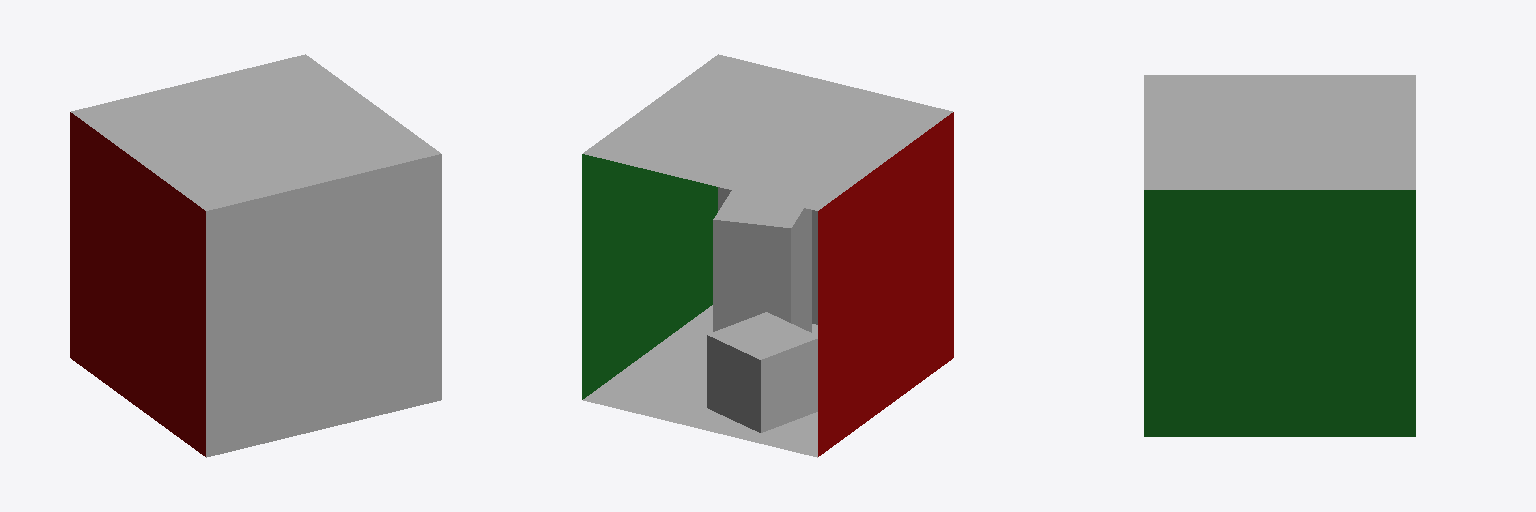
Rendered from cornell-box.obj.
3 renders of one model, left to right at view 1: azimuth 30°, elevation 25°; view 2: azimuth 150°, elevation 25°; view 3: azimuth 270°, elevation 25°, orthographic.
Parts seen in each view (by area): view 1: Back_Wall, Right_Wall, Ceiling; view 2: Right_Wall, Ceiling, Left_Wall, Tall_Block, Cube, Floor, Back_Wall; view 3: Left_Wall, Ceiling.
Part boxes in pixels (x1,y1,x2,y2): Back_Wall: (206, 154, 441, 457); Right_Wall: (70, 112, 205, 456); Ceiling: (71, 54, 440, 210); Right_Wall: (818, 112, 953, 456); Ceiling: (583, 54, 952, 210); Left_Wall: (582, 154, 717, 399); Tall_Block: (713, 190, 811, 332); Cube: (707, 312, 817, 432); Floor: (583, 305, 817, 457); Back_Wall: (718, 187, 817, 324); Left_Wall: (1144, 190, 1415, 436); Ceiling: (1144, 75, 1415, 189).
Size of the model in its own units: 555 by 555 by 555.